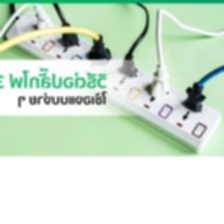three_eye_plug: (3, 9, 223, 155)
